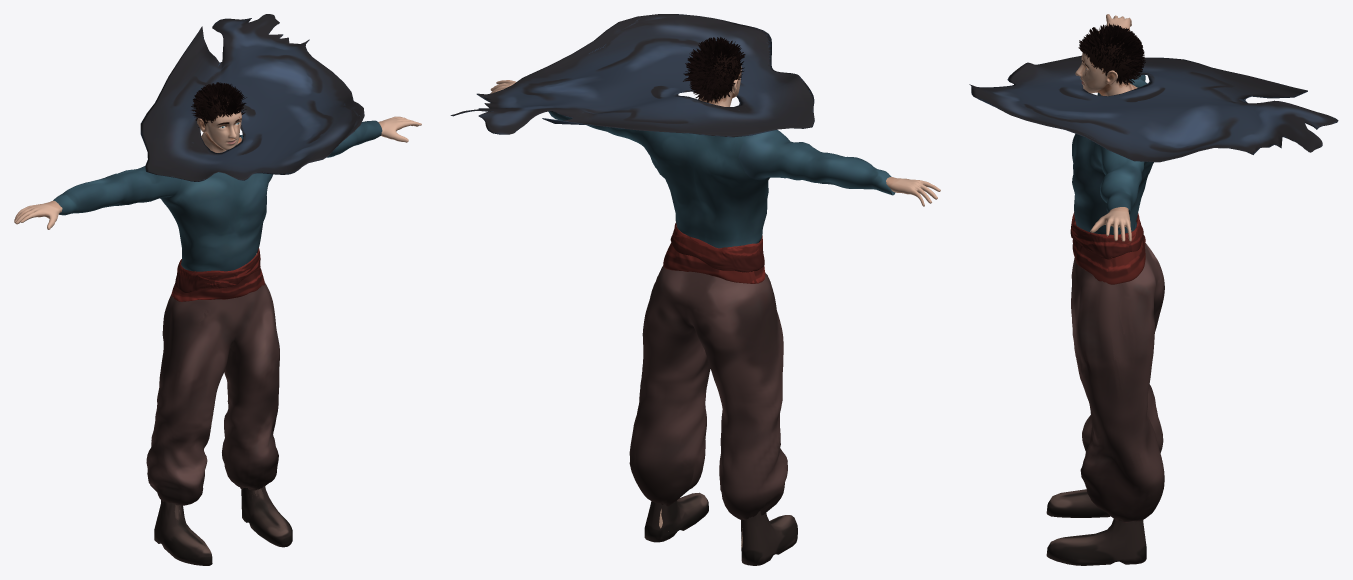
Rendered from Character.fbx.
The picture shows the model from 3 angles, left to right: view 1: azimuth 30°, elevation 25°; view 2: azimuth 150°, elevation 25°; view 3: azimuth 270°, elevation 25°; orthographic projection. The views are drawn at different scales.
Parts seen in each view (by area): view 1: Cape, Trausers, Shirt, Body, Boot, Boot.001, Belt, Hair.001, Belt.001; view 2: Trausers, Cape, Shirt, Hair.001, Boot, Body, Belt, Boot.001, Belt.001; view 3: Cape, Trausers, Shirt, Boot.001, Body, Hair.001, Belt.001, Belt, Boot.
Part boxes in pixels (x1,y1,x2,y2): Cape: (140, 14, 364, 181); Trausers: (146, 282, 279, 505); Shirt: (53, 120, 382, 271); Body: (14, 95, 421, 254); Boot: (154, 500, 212, 565); Boot.001: (241, 486, 292, 547); Belt: (175, 248, 260, 292); Hair.001: (191, 82, 246, 127); Belt.001: (171, 268, 264, 301); Trausers: (629, 265, 787, 520); Cape: (450, 14, 814, 137); Shirt: (548, 111, 895, 248); Hair.001: (683, 37, 745, 102); Boot: (741, 511, 797, 565); Body: (490, 51, 940, 547); Belt: (670, 223, 764, 272); Boot.001: (644, 492, 708, 542); Belt.001: (663, 243, 765, 283); Cape: (969, 55, 1338, 162); Trausers: (1071, 243, 1164, 522); Shirt: (1072, 75, 1153, 234); Boot.001: (1046, 519, 1146, 565); Body: (1075, 14, 1137, 241); Hair.001: (1078, 23, 1145, 84); Belt.001: (1072, 235, 1145, 284); Belt: (1070, 212, 1143, 259); Boot: (1046, 489, 1110, 517).
Bounding box in the file's own units: 333 × 356 × 235.
